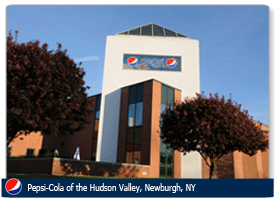pepsi: (4, 178, 22, 194), (164, 57, 175, 67), (127, 55, 137, 65)
